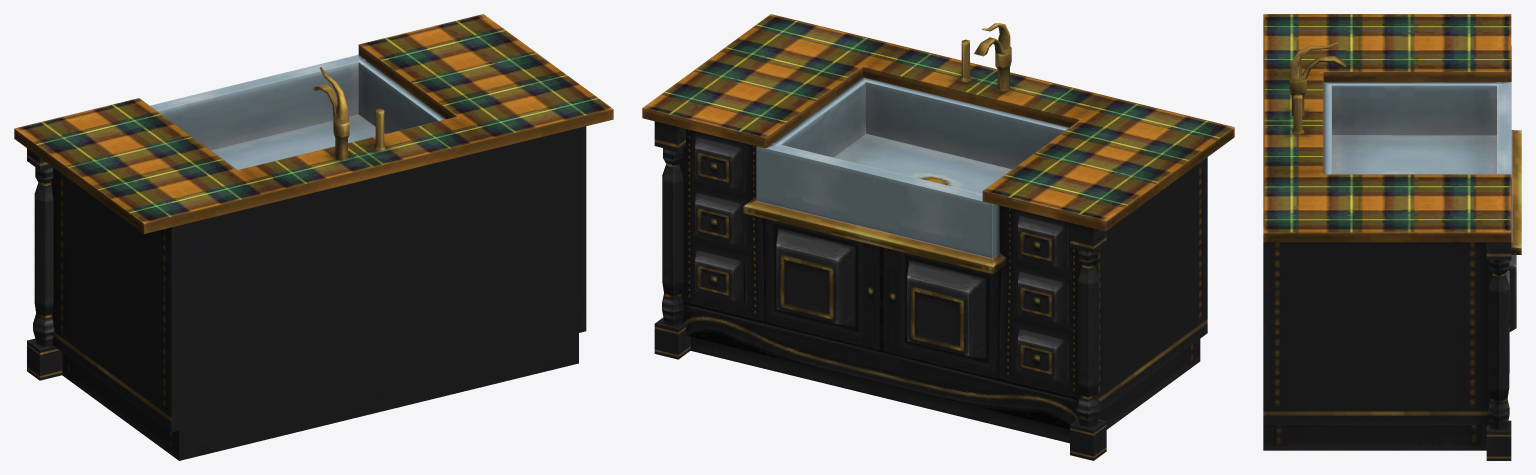
The model's file is furni_0200326_03.FBX.
The picture shows the model from 3 angles, left to right: view 1: azimuth 30°, elevation 25°; view 2: azimuth 150°, elevation 25°; view 3: azimuth 270°, elevation 25°; orthographic projection. The views are drawn at different scales.
Parts seen in each view (by area): view 1: furni_0200326_03; view 2: furni_0200326_03; view 3: furni_0200326_03.
Boxes of the visible parts, x1,y1,x2,y2 form: furni_0200326_03: [14, 14, 613, 460]; furni_0200326_03: [642, 14, 1234, 460]; furni_0200326_03: [1263, 14, 1521, 460].
Bounding box in the file's own units: 160 × 105 × 80.01.
